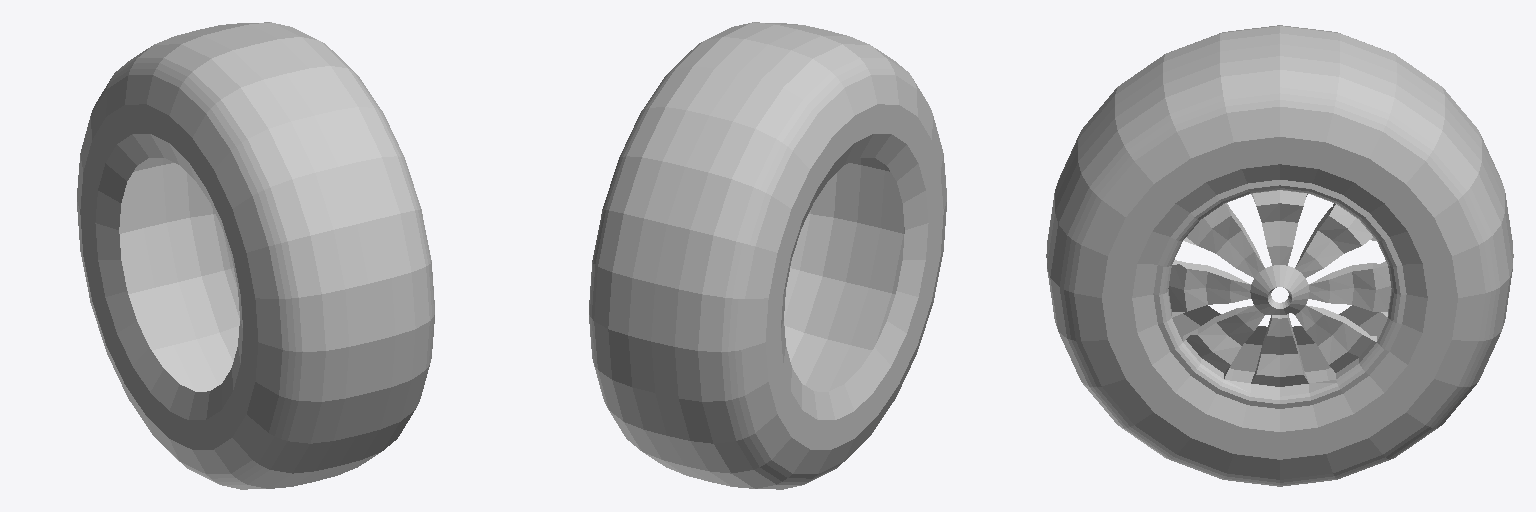
File: Tire and Wheel.obj
3 renders of one model, left to right at view 1: azimuth 30°, elevation 25°; view 2: azimuth 150°, elevation 25°; view 3: azimuth 270°, elevation 25°, orthographic.
Visible parts, largest first — view 1: loftedSurface1; view 2: loftedSurface1; view 3: loftedSurface1, loftedSurface4.
Part boxes in pixels (bbox=[...]): loftedSurface1: bbox=[77, 22, 434, 489]; loftedSurface1: bbox=[589, 22, 946, 489]; loftedSurface1: bbox=[1046, 25, 1513, 486]; loftedSurface4: bbox=[1153, 180, 1406, 408].
Size of the model in its own units: 2.72 by 6.36 by 6.36.